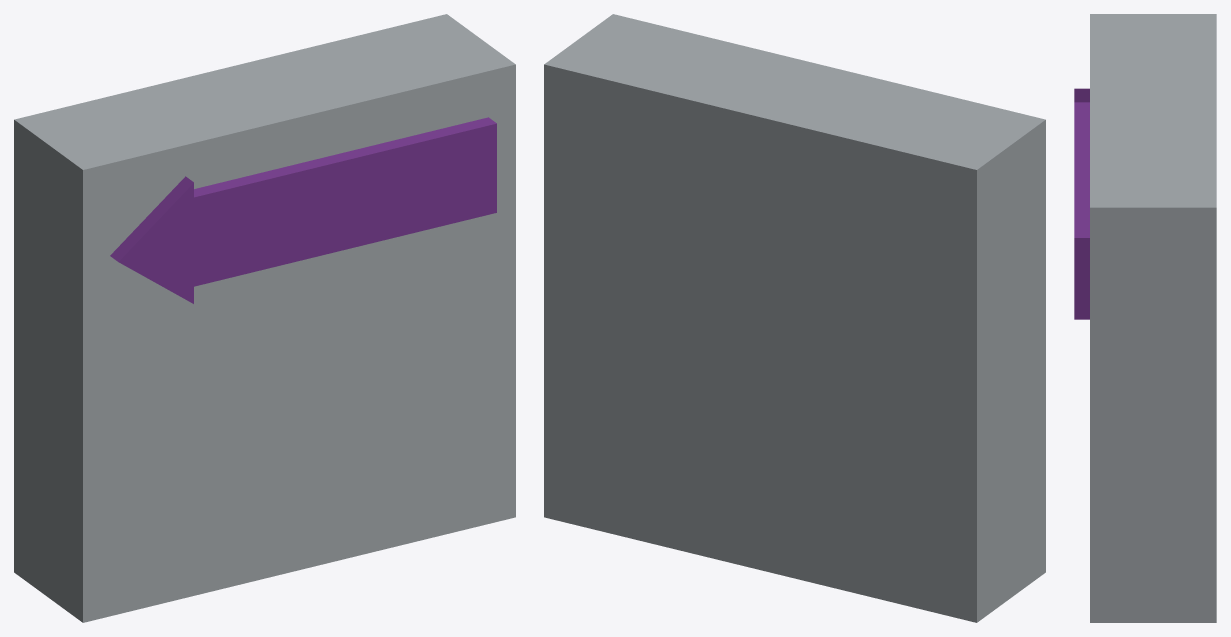
The model's file is tinker.obj.
The picture shows the model from 3 angles, left to right: view 1: azimuth 30°, elevation 25°; view 2: azimuth 150°, elevation 25°; view 3: azimuth 270°, elevation 25°; orthographic projection. The views are drawn at different scales.
Visible parts, largest first — view 1: group_0_10988977, group_0_8273816; view 2: group_0_10988977; view 3: group_0_10988977, group_0_8273816.
Part boxes in pixels (x1,y1,x2,y2): group_0_10988977: (14,14,515,622); group_0_8273816: (110,117,496,303); group_0_10988977: (544,14,1045,622); group_0_10988977: (1090,14,1216,622); group_0_8273816: (1074,88,1089,319).
Bounding box in the file's own units: 1 × 1 × 0.31.
